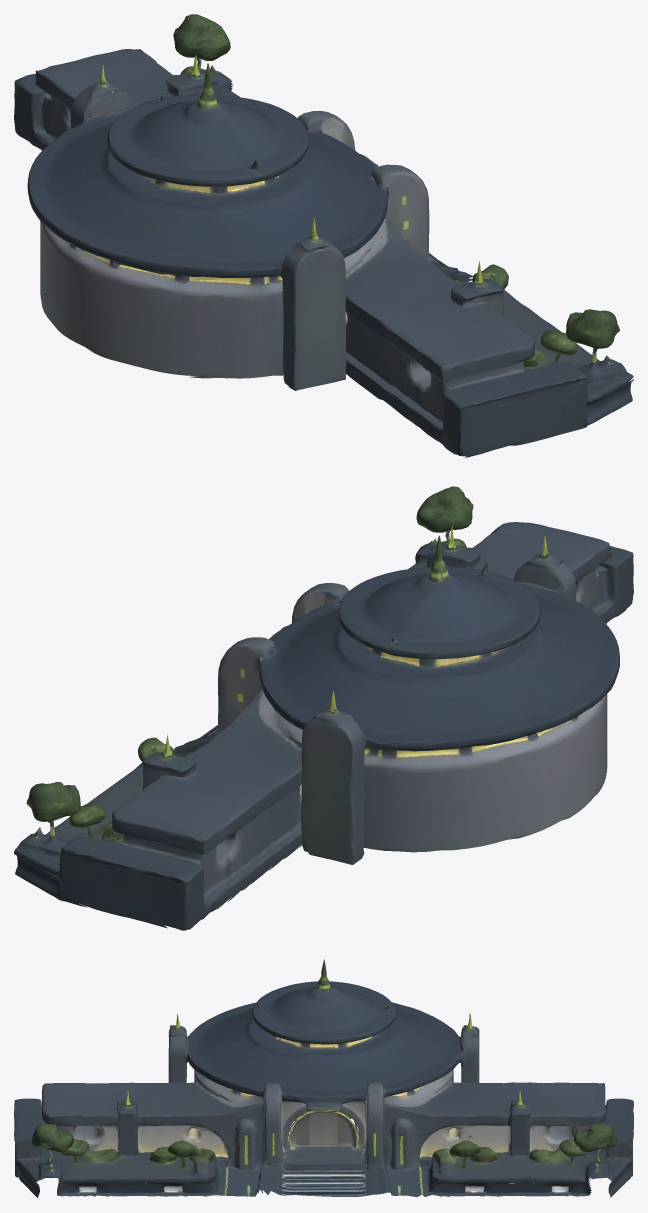
The model's file is temple.glb.
3 renders of one model, top to bottom at view 1: azimuth 30°, elevation 25°; view 2: azimuth 150°, elevation 25°; view 3: azimuth 270°, elevation 25°, orthographic. The views are drawn at different scales.
Visible parts, largest first — view 1: geometry_0; view 2: geometry_0; view 3: geometry_0.
Part boxes in pixels (bbox=[...]): geometry_0: bbox=[14, 14, 633, 457]; geometry_0: bbox=[14, 486, 633, 930]; geometry_0: bbox=[14, 959, 633, 1197].
Bounding box in the file's own units: 47.12 × 29.1 × 98.11.
1 material, 1 textured.
